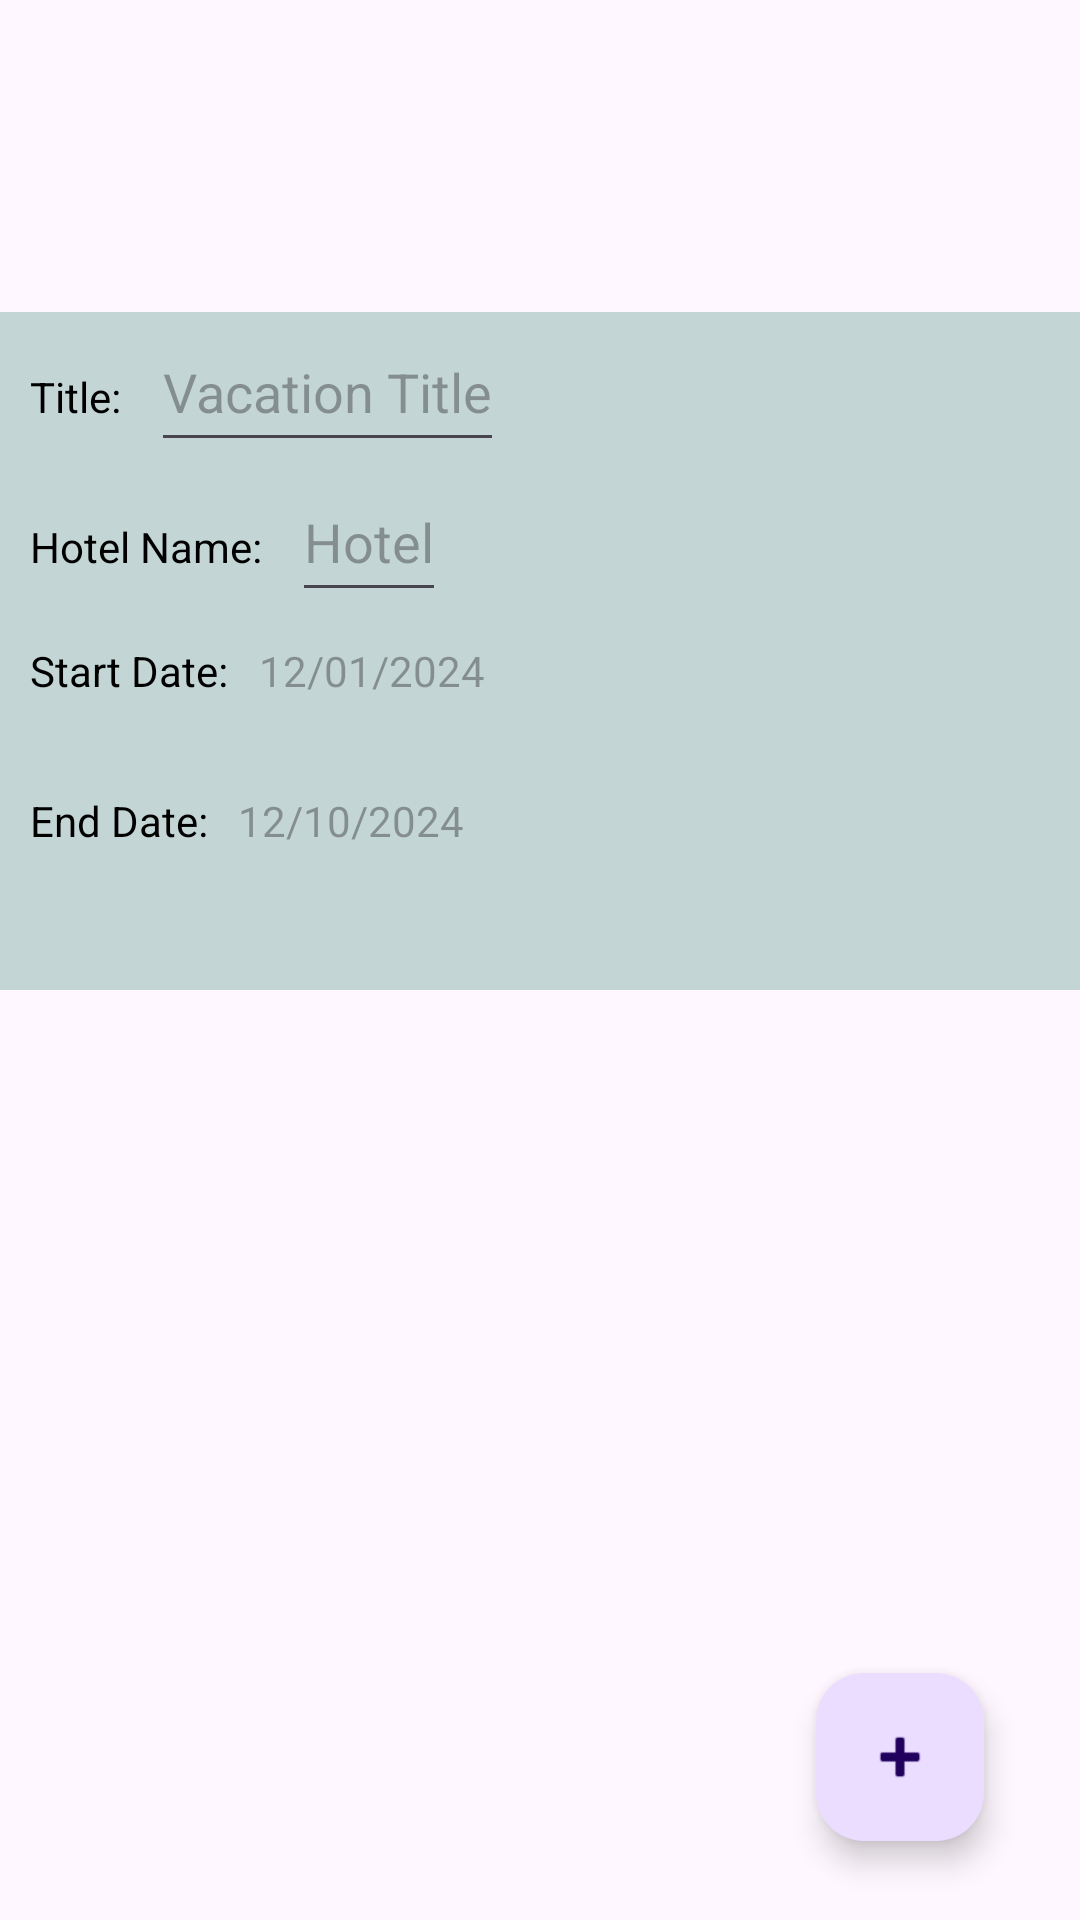

Icon click points for this 1080 x 1920 phone screenshot, format [x,y]:
add: [900,1757]
